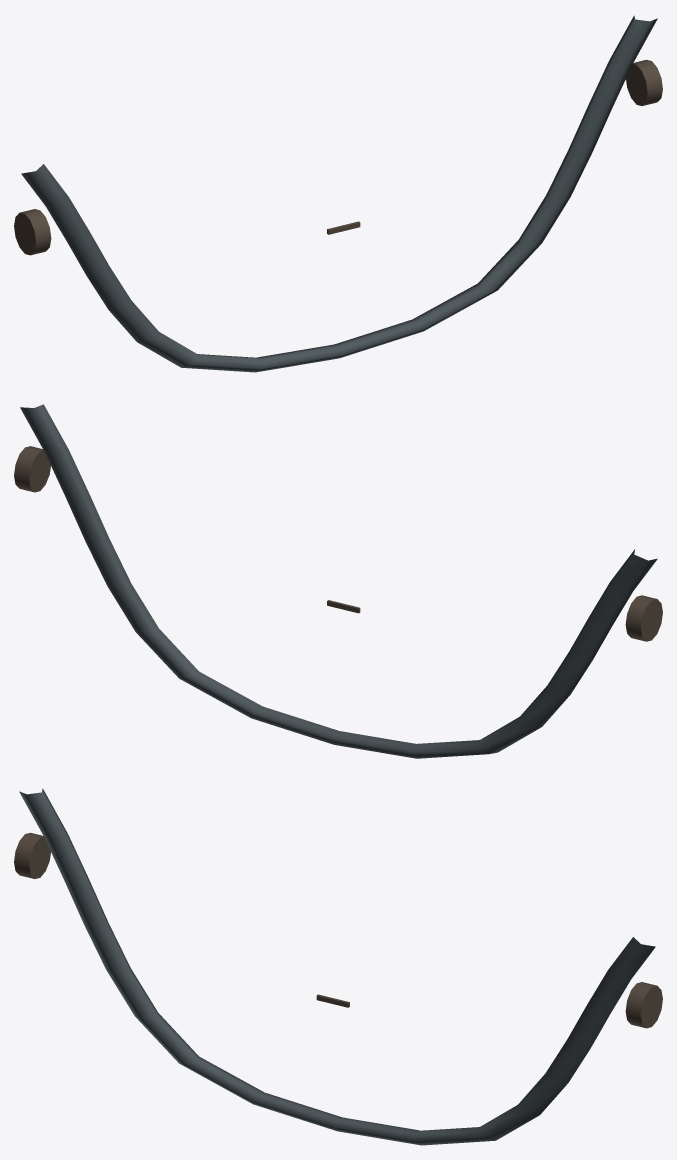
The model's file is curved-pipe-2.glb.
3 renders of one model, top to bottom at view 1: azimuth 30°, elevation 25°; view 2: azimuth 150°, elevation 25°; view 3: azimuth 330°, elevation 25°, orthographic.
Parts seen in each view (by area): view 1: curved-pipe/1/KR-230-2; view 2: curved-pipe/1/KR-230-2; view 3: curved-pipe/1/KR-230-2.
Part boxes in pixels (left/top/right/bottom): curved-pipe/1/KR-230-2: left=14, top=15, right=662, bottom=372; curved-pipe/1/KR-230-2: left=14, top=404, right=662, bottom=758; curved-pipe/1/KR-230-2: left=14, top=788, right=662, bottom=1145.
Size of the model in its own units: 5 by 2 by 0.3.
